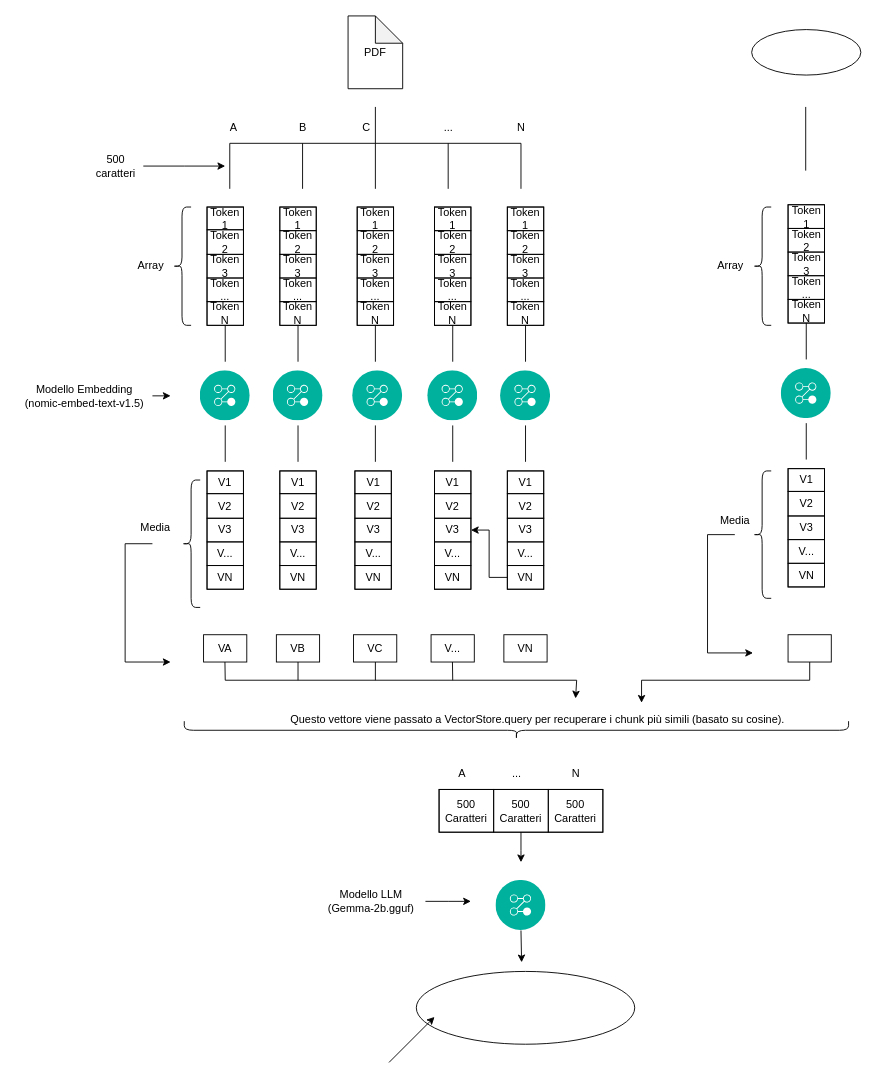
Image size: 876x1086. Some labels were removed from this diagram. The centre of each missing label's shape, as x and y in pixels:
"Richiesta Utente" belongs at point 806,52.
"Risposta" belongs at point 525,1007.
"VR" belongs at point 809,648.
